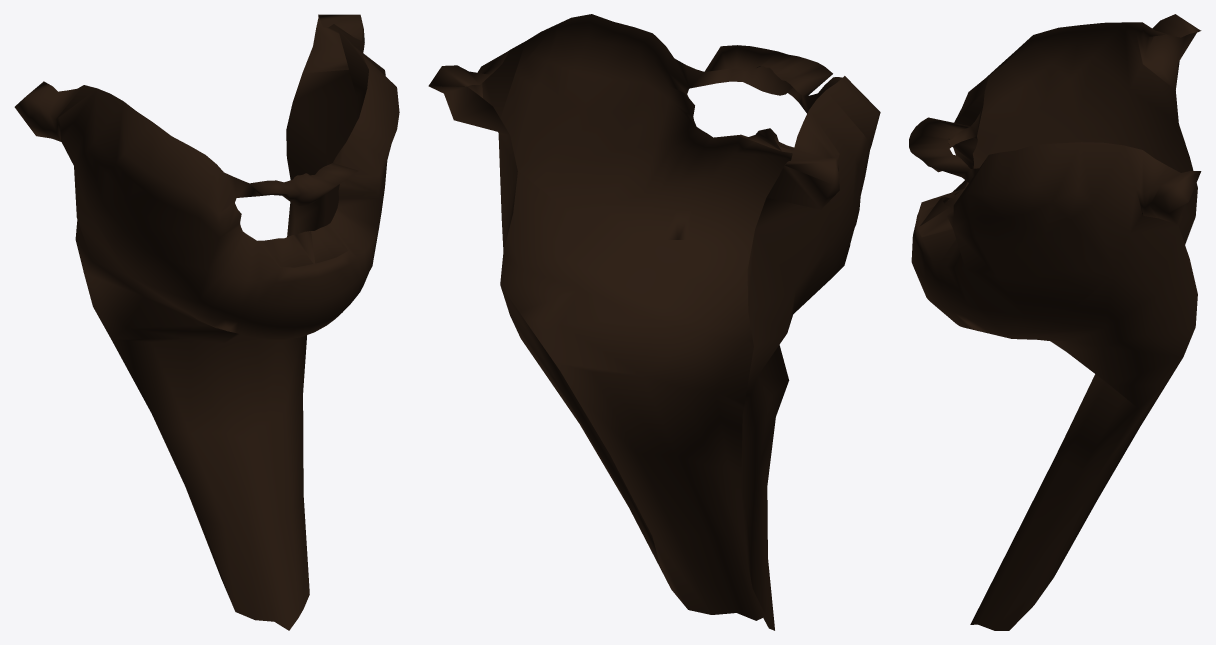
Rendered from beard_long.glb.
3 renders of one model, left to right at view 1: azimuth 30°, elevation 25°; view 2: azimuth 150°, elevation 25°; view 3: azimuth 270°, elevation 25°, orthographic. The views are drawn at different scales.
Visible parts, largest first — view 1: beard_long; view 2: beard_long; view 3: beard_long.
Boxes of the visible parts, box(x1,y1,x2,y2) form: beard_long: box(14, 14, 399, 630); beard_long: box(428, 14, 880, 630); beard_long: box(909, 14, 1201, 630).
Size of the model in its own units: 0.1934 by 0.2779 by 0.1358.
